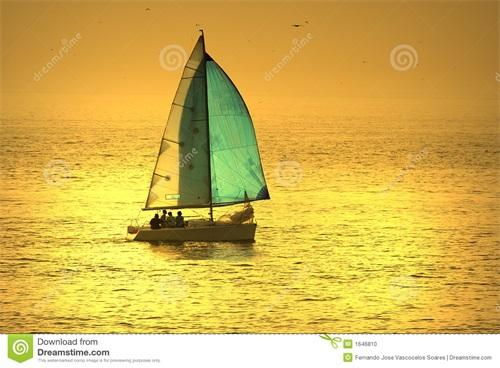Ship: (127, 29, 272, 245)
